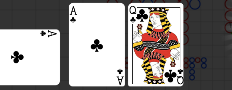AC: (38, 29, 58, 38), (115, 67, 124, 85)
